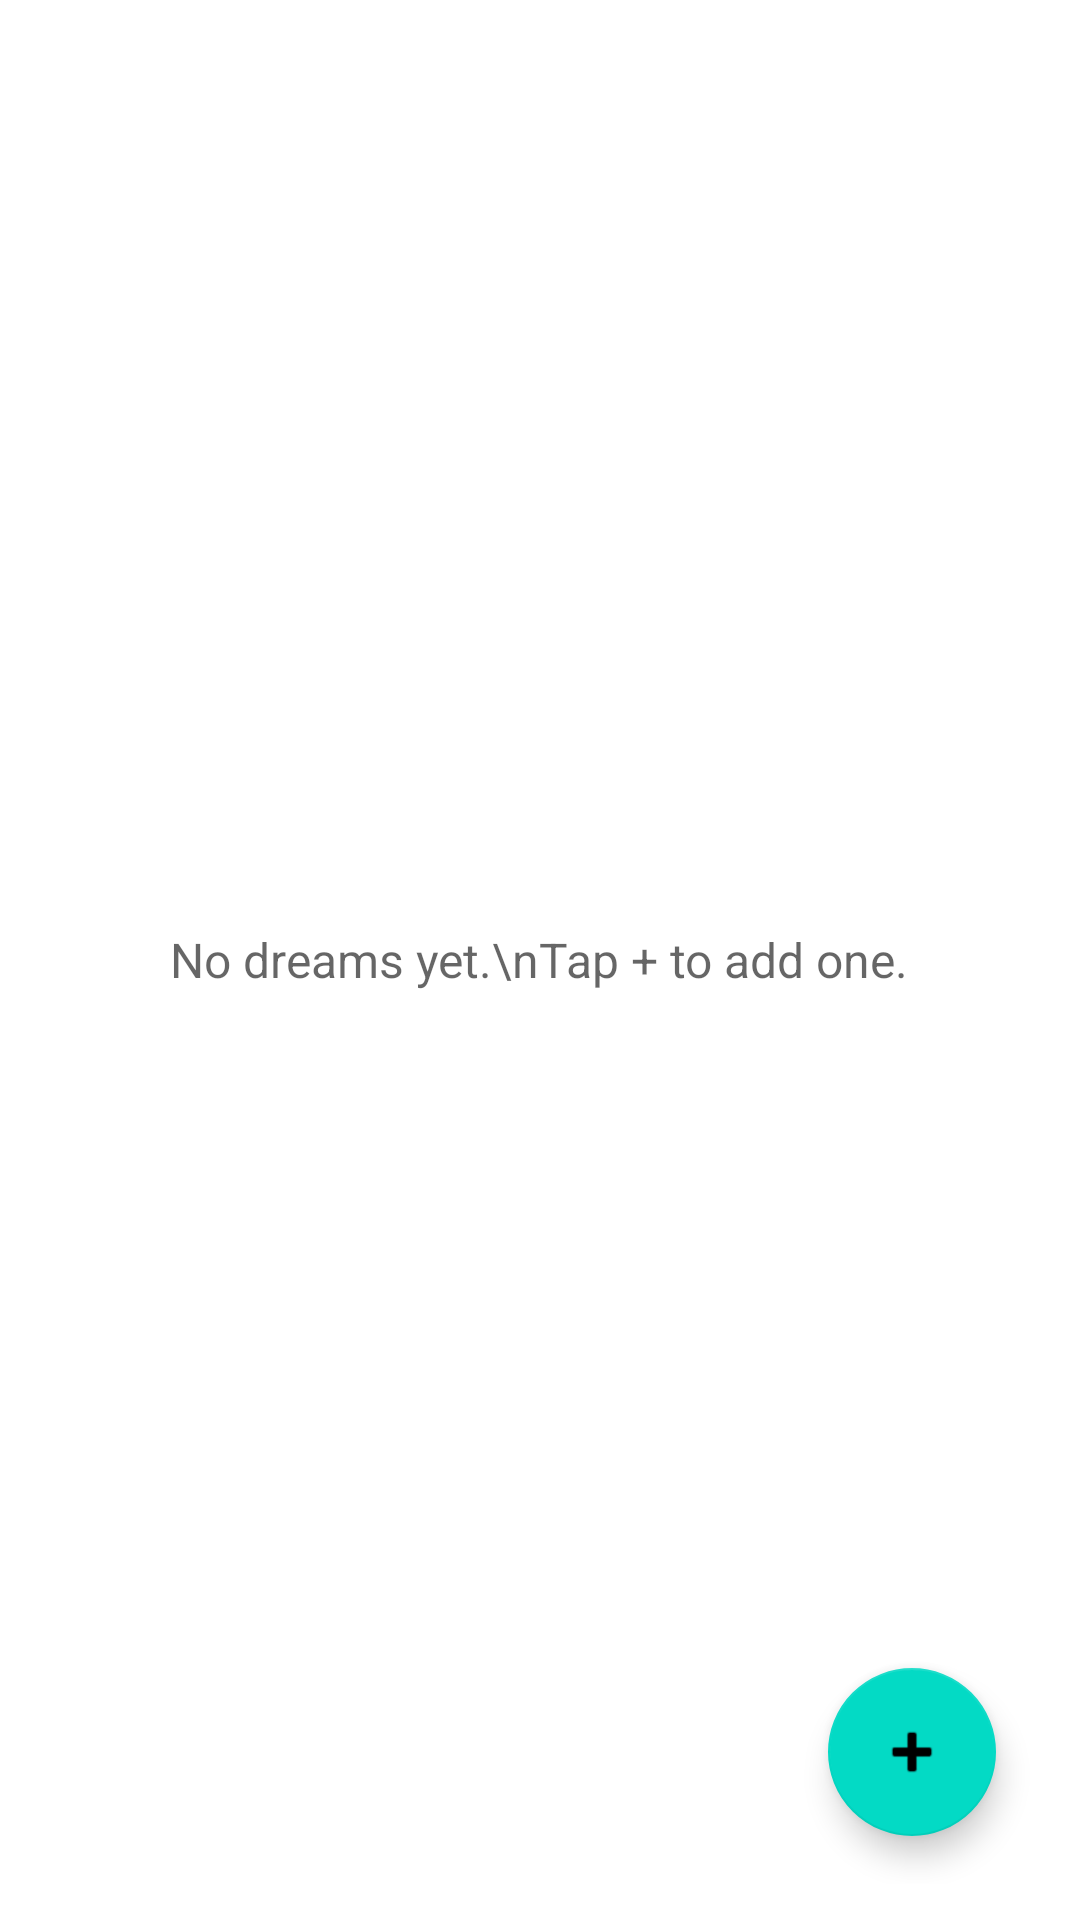

Screen size 1080px x 1920px. Icon name, then its center in pixels as (x,y):
Add journal entry: (912,1752)
